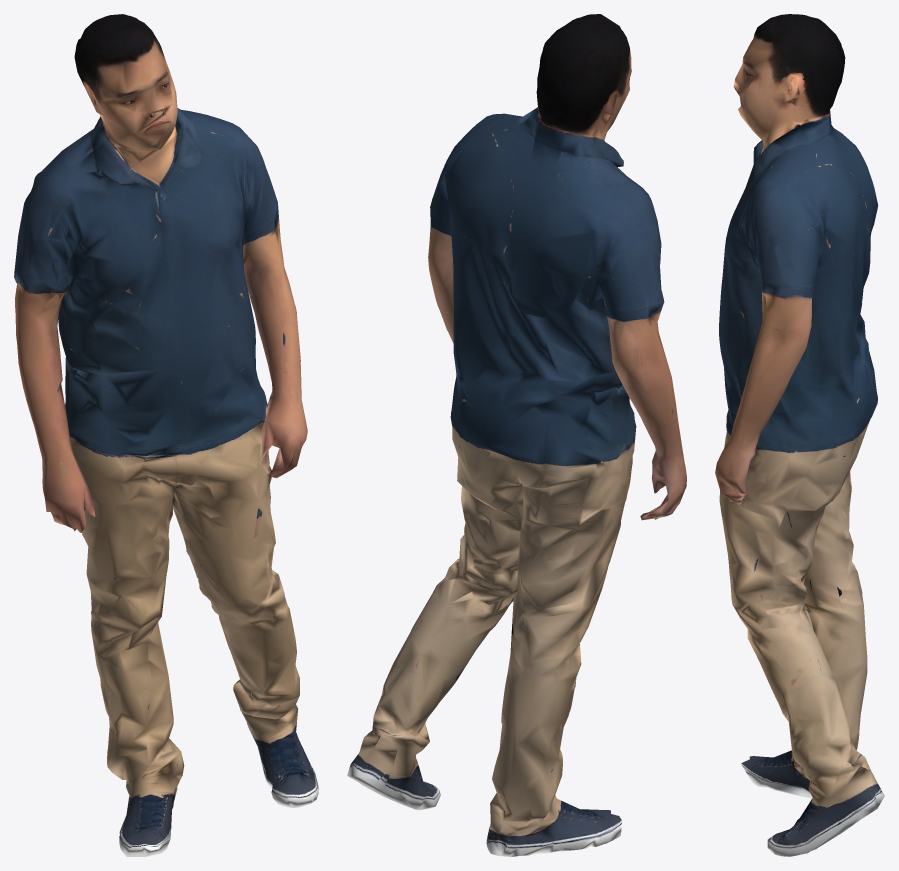
Rendered from person6.glb.
3 views of the same model, side by side, from view 1: azimuth 30°, elevation 25°; view 2: azimuth 150°, elevation 25°; view 3: azimuth 270°, elevation 25° (orthographic). The views are drawn at different scales.
Visible parts, largest first — view 1: Object_5; view 2: Object_5; view 3: Object_5.
Boxes of the visible parts, x1,y1,x2,y2 form: Object_5: (14, 14, 318, 856); Object_5: (347, 14, 686, 856); Object_5: (715, 14, 884, 856).
Bounding box in the file's own units: 0.6975 × 1.9 × 0.3856.
1 material, 1 textured.
